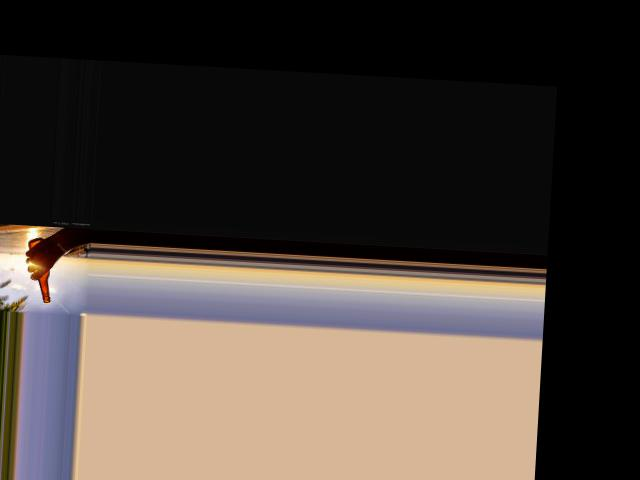beer: (25, 236, 54, 302)
